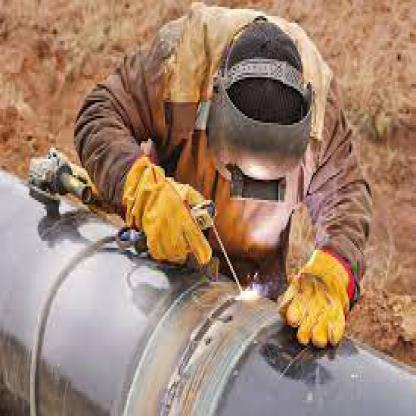with_gloves: (121, 155, 216, 266), (277, 246, 357, 350)
